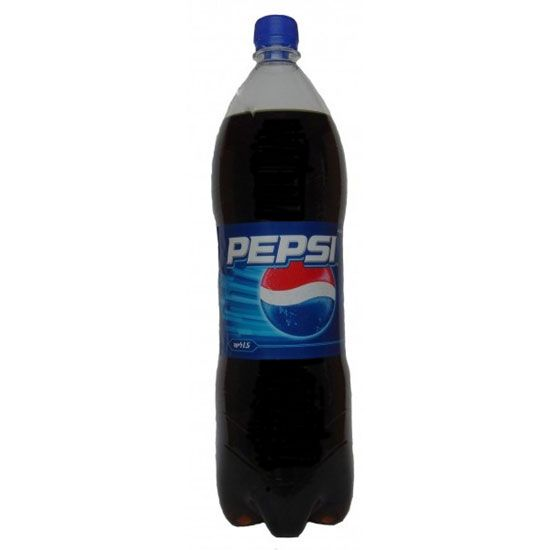pepsi_bottle: (209, 13, 354, 536)
